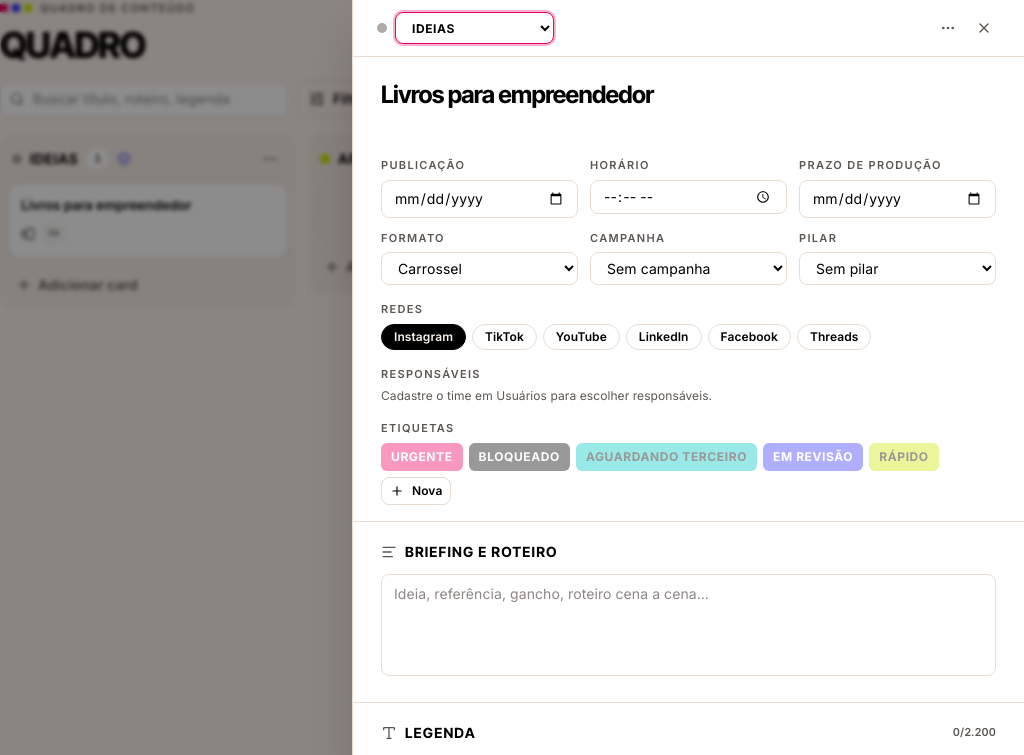
it: Quadro de conteúdo › abre o card pela URL e edita o título
Step 1. Replace the text in the text box named "Título" with "5 livros para empreendedor" → {"x": 688, "y": 104}, box [381, 77, 996, 131]
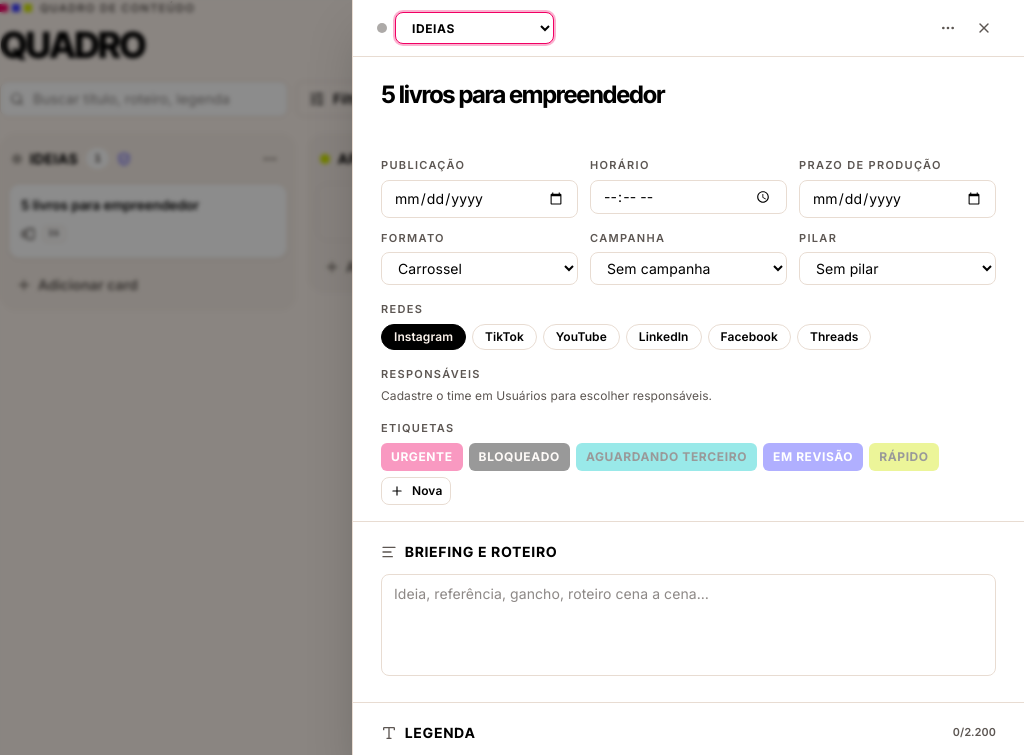
Check: the text "5 livros para empreendedor" is shown, box [21, 196, 199, 212]
